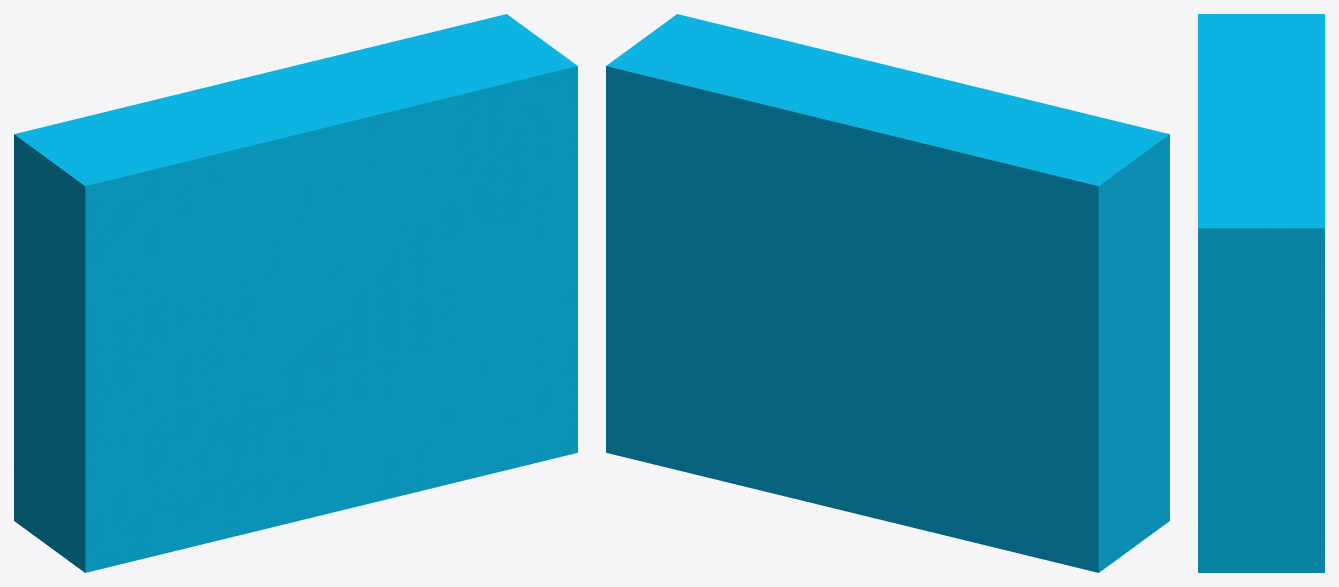
File: bin_stack_blue.dae
The picture shows the model from 3 angles, left to right: view 1: azimuth 30°, elevation 25°; view 2: azimuth 150°, elevation 25°; view 3: azimuth 270°, elevation 25°; orthographic projection. The views are drawn at different scales.
Visible parts, largest first — view 1: node; view 2: node; view 3: node.
Boxes of the visible parts, x1=… form: node: x1=14, y1=14, x2=577, y2=572; node: x1=606, y1=14, x2=1169, y2=572; node: x1=1198, y1=14, x2=1324, y2=572.
Bounding box in the file's own units: 0.4 × 0.3 × 0.1.
1 material, 1 textured.
